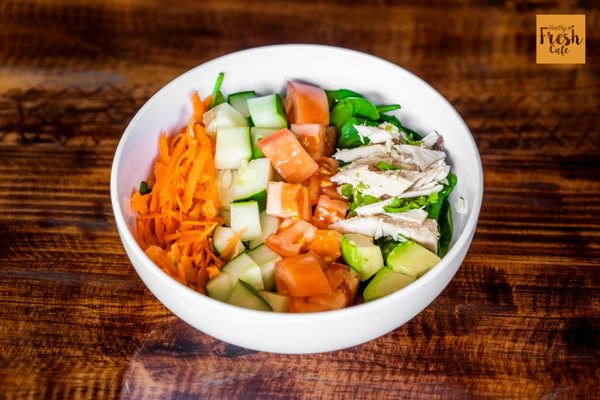sushi: (107, 39, 488, 355)
